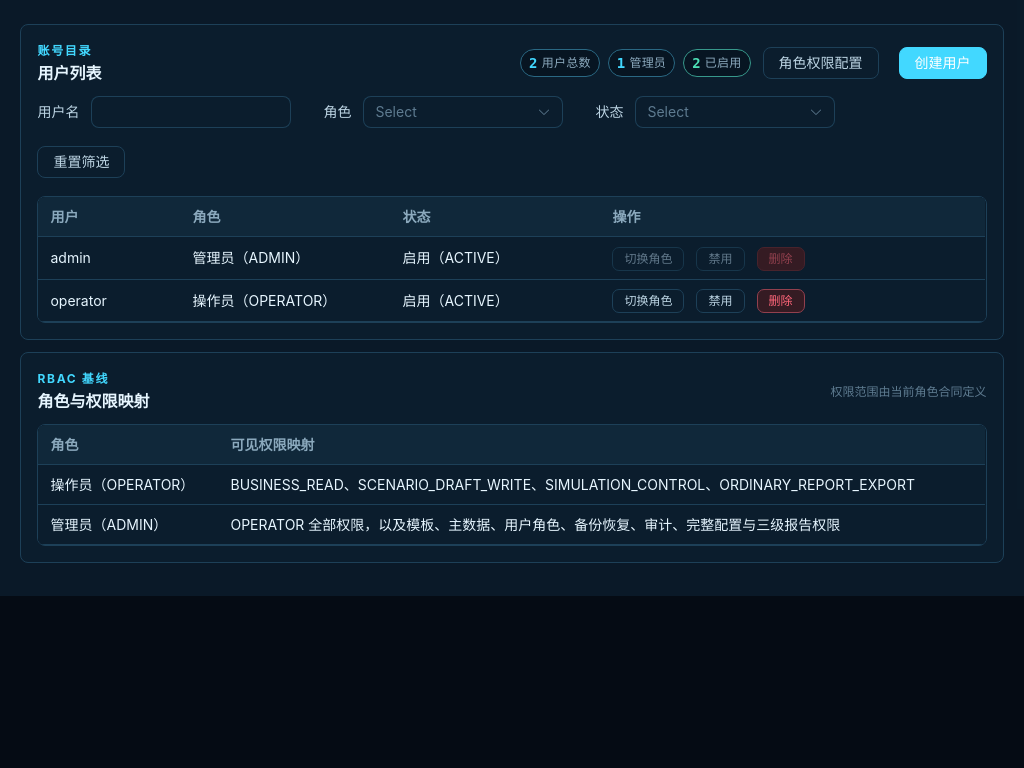
Test: P1 authentication and routing › creates with POST, exposes role permissions, and deletes with DELETE through AdminPage
The width and height of the screenshot is (1024, 768).
Expected: the element with test id "role-permission-map" shows "BUSINESS_READ", top-left (230, 476), bottom-right (915, 493)
Click the button with test id "open-create-user" at (942, 63), box top-left (898, 47), bottom-right (986, 79)
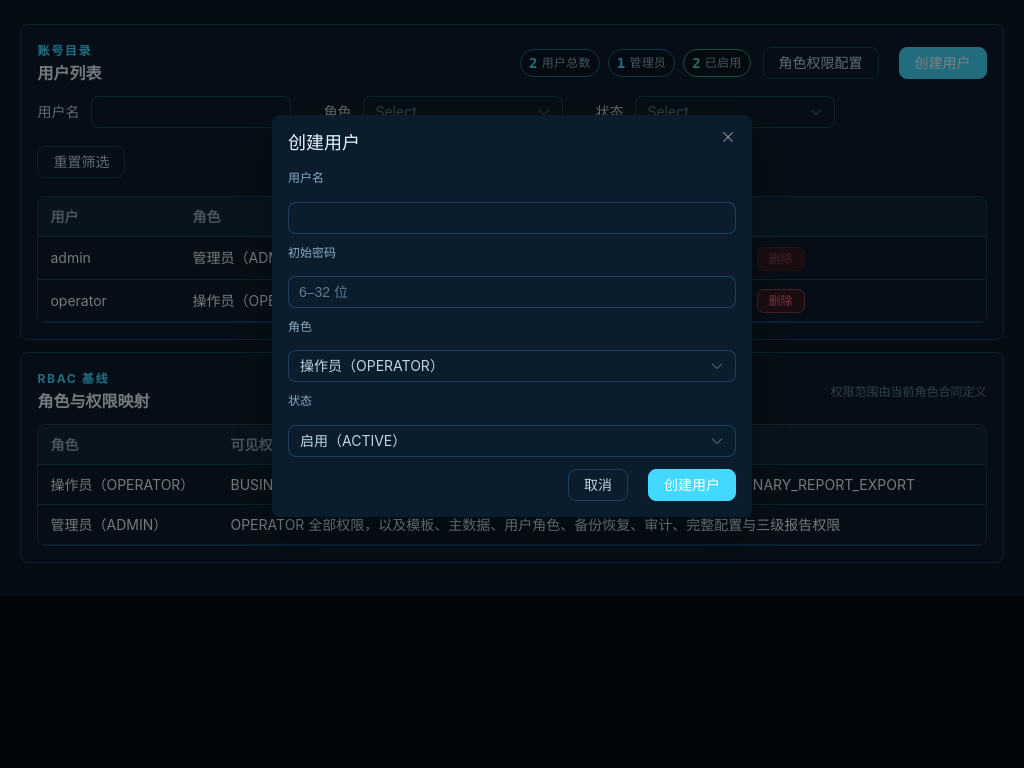
Type "reviewer" into the field with test id "create-username" at (512, 218), box top-left (299, 203), bottom-right (725, 233)
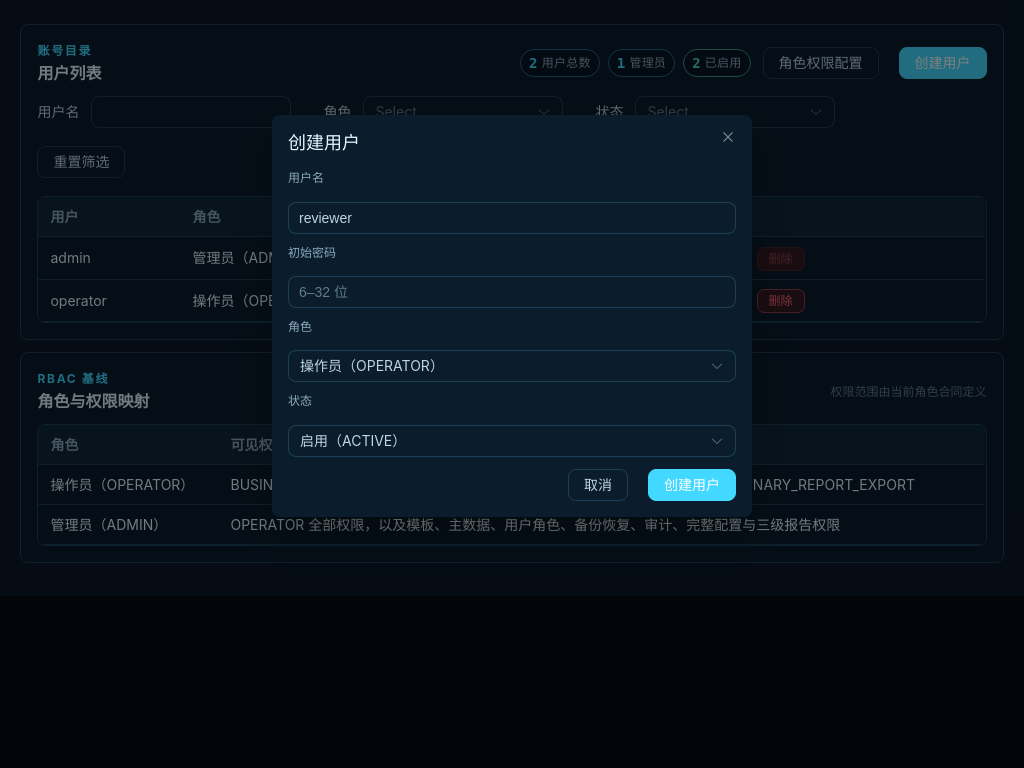
Type "123456" into the password field with test id "create-password" at (512, 292), box top-left (299, 277), bottom-right (725, 307)
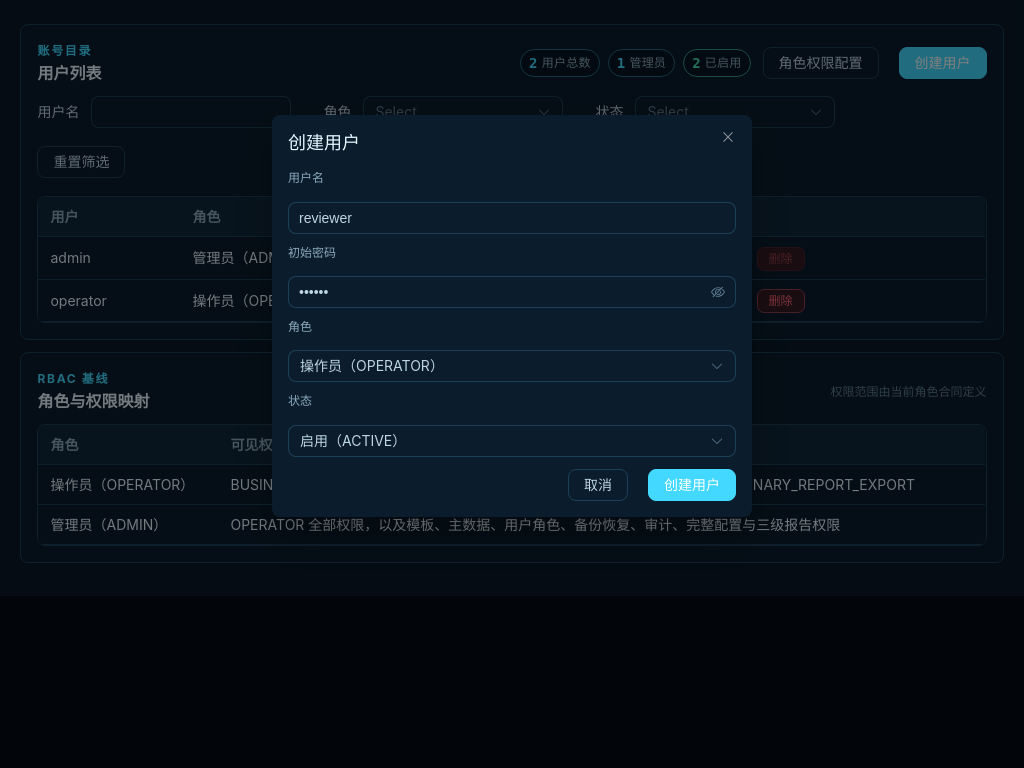
Submit the form with class "create-form", box top-left (288, 171), bottom-right (736, 501)
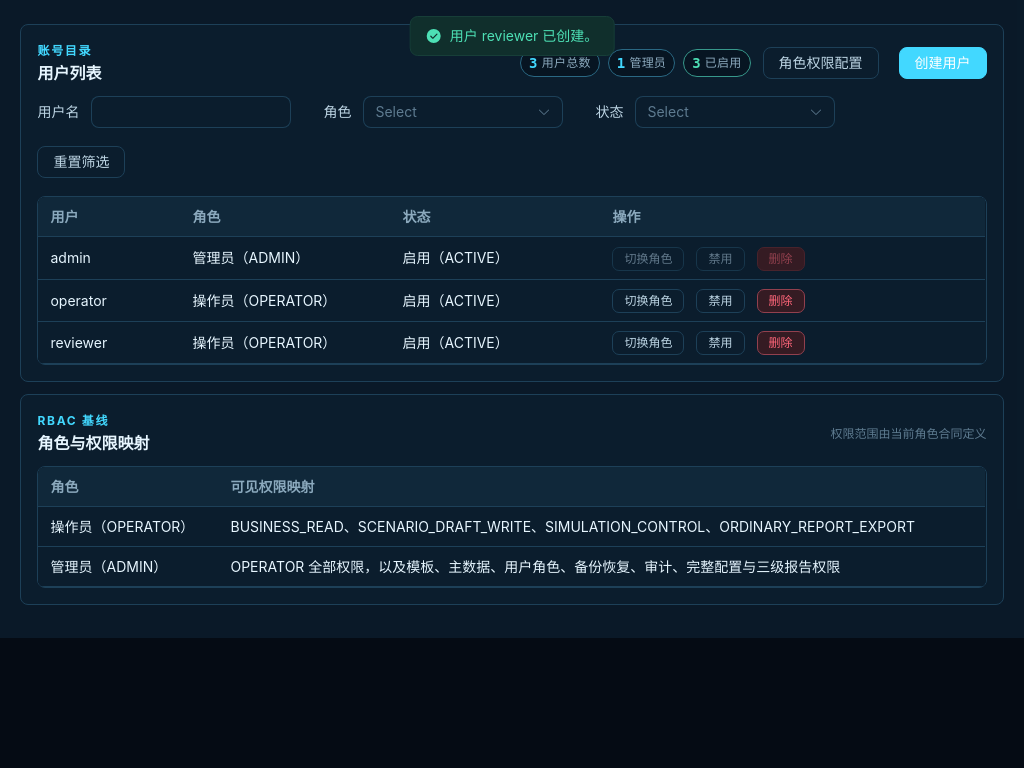
Expected: the text "reviewer" is shown, top-left (50, 334), bottom-right (107, 351)
Click the 2nd button "删除" at (780, 301), box top-left (756, 289), bottom-right (804, 313)
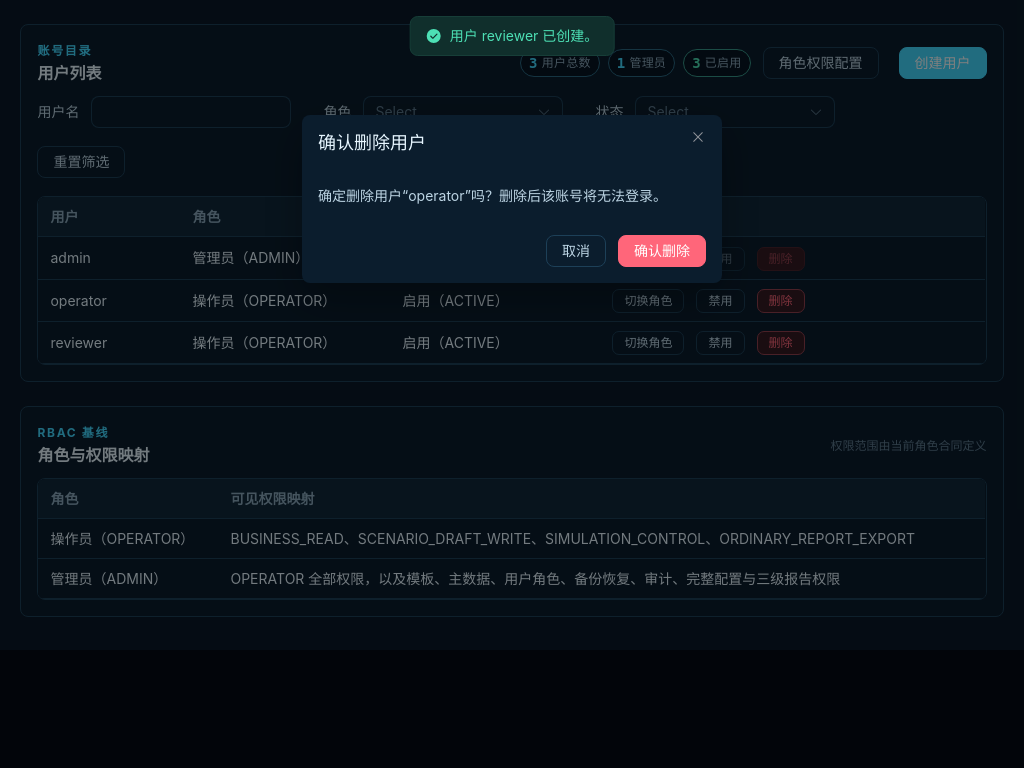
Expected: the element with test id "delete-confirmation" shows "operator", top-left (318, 187), bottom-right (667, 204)
Click the button with test id "confirm-delete" at (662, 251), box top-left (618, 235), bottom-right (706, 267)
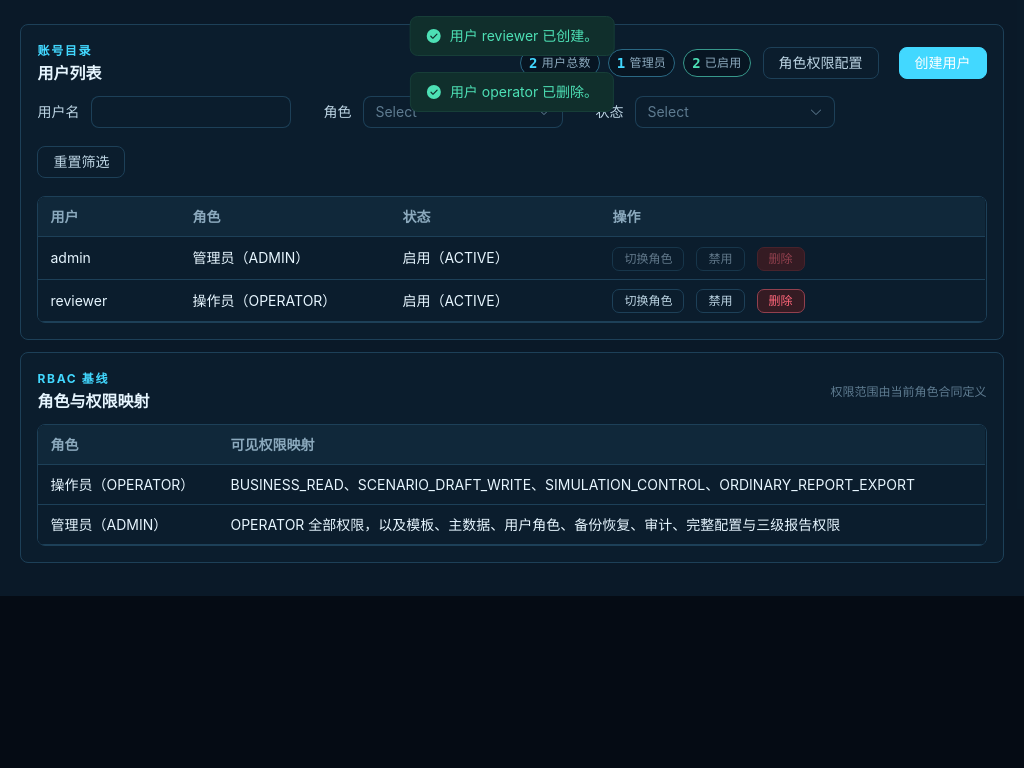
Expected: the element with test id "user-role-panel" no longer shows "operator"
